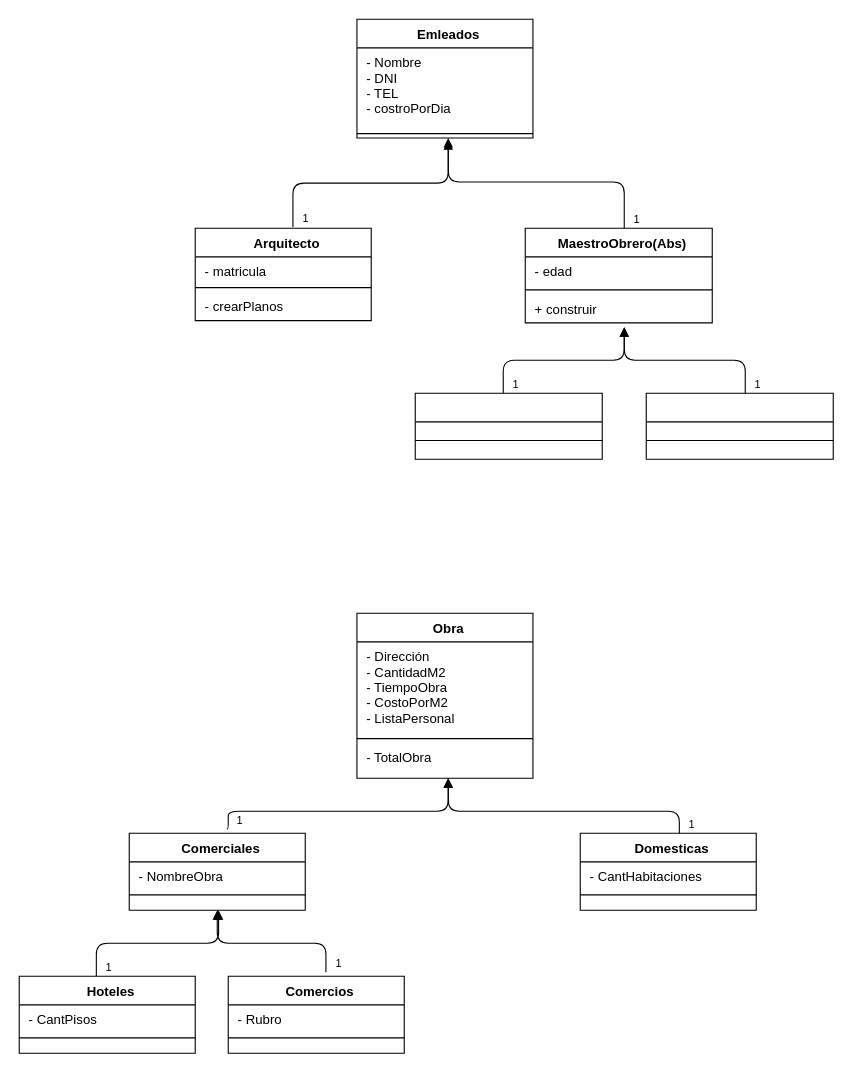
This 853x1076 diagram has some shape labels left out. Each missing label, with the centre of its shape:
MaestroObra: (x=508, y=425)
Obrero: (x=739, y=425)
